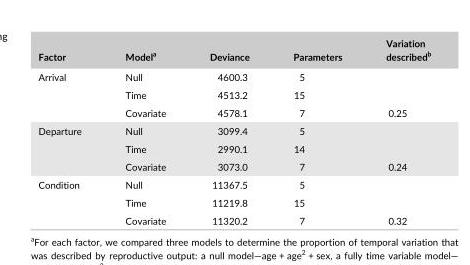table: (37, 36, 430, 225)
table column: (270, 36, 363, 225), (102, 36, 187, 225), (187, 36, 270, 225), (363, 36, 430, 225), (37, 36, 102, 225)
table column header: (37, 36, 430, 66)
table row: (37, 36, 430, 66), (37, 66, 430, 85), (37, 85, 430, 103), (37, 103, 430, 121), (37, 121, 430, 139), (37, 139, 430, 157), (37, 157, 430, 175), (37, 175, 430, 193), (37, 193, 430, 210), (37, 210, 430, 225)
table spanning cell: (37, 66, 102, 121), (37, 121, 102, 175), (37, 175, 102, 225)
